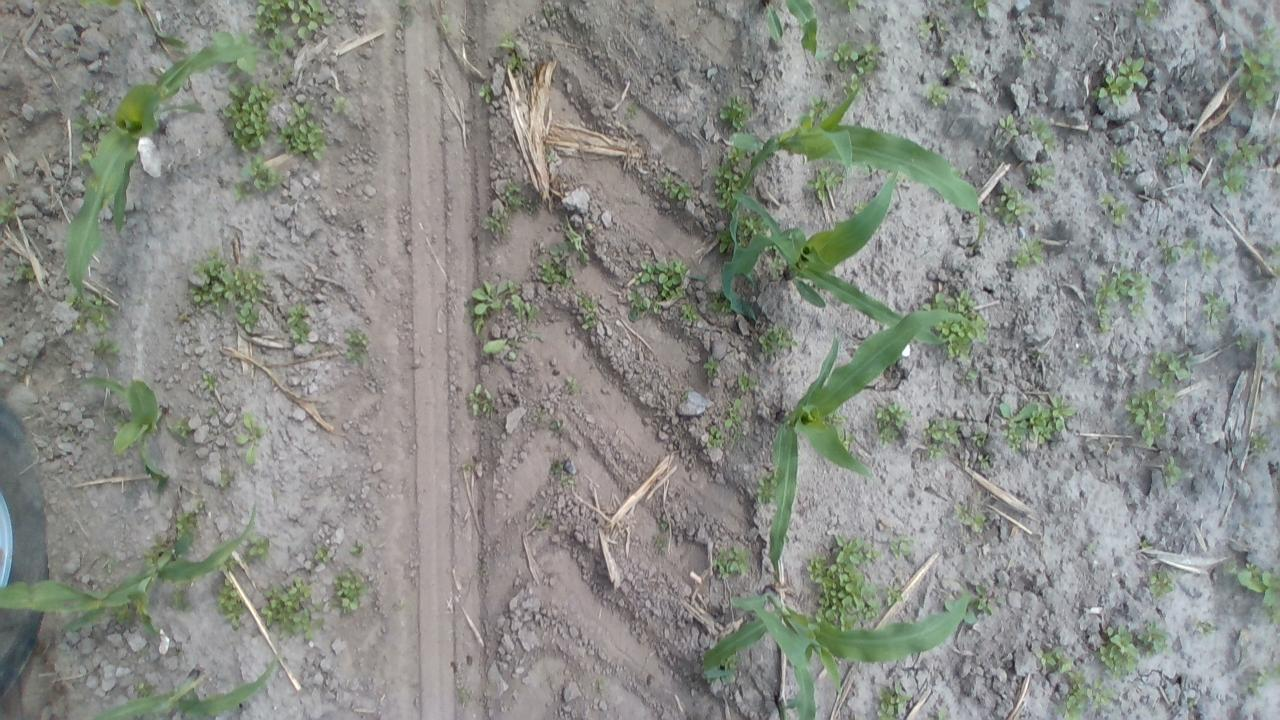Maize: (64, 37, 280, 316), (768, 312, 976, 584), (722, 82, 986, 266), (720, 160, 956, 344), (1, 503, 260, 638), (699, 584, 970, 695), (91, 652, 281, 718), (78, 374, 169, 492), (751, 605, 818, 720), (759, 0, 834, 62), (136, 1, 190, 51), (75, 0, 144, 8)
Weeds: (1224, 562, 1280, 634), (817, 564, 883, 624), (260, 578, 320, 641), (1098, 264, 1160, 322), (222, 80, 272, 150), (471, 273, 517, 333), (1126, 387, 1172, 445), (1094, 56, 1146, 106), (1218, 139, 1262, 195), (279, 106, 323, 160), (937, 315, 983, 363), (546, 213, 590, 263), (1096, 628, 1138, 677), (252, 1, 290, 52), (1240, 48, 1276, 95), (236, 160, 280, 196), (998, 401, 1052, 430), (1058, 670, 1089, 718), (173, 498, 205, 542), (1147, 354, 1193, 384), (1010, 236, 1045, 274), (237, 412, 263, 463), (874, 683, 910, 719), (712, 166, 742, 209), (334, 572, 365, 612), (661, 165, 692, 204), (220, 582, 246, 628), (1029, 114, 1060, 152), (952, 502, 986, 536), (718, 94, 751, 129), (996, 193, 1033, 224), (479, 208, 511, 243), (656, 260, 686, 297), (760, 325, 794, 357), (1159, 240, 1202, 264), (194, 247, 228, 277), (1244, 664, 1280, 692), (712, 548, 747, 576), (1128, 0, 1163, 28), (832, 536, 864, 565), (1048, 393, 1076, 426), (754, 470, 776, 511), (1140, 621, 1170, 651), (88, 292, 110, 332), (243, 266, 270, 298), (810, 168, 837, 200), (538, 260, 571, 286), (921, 291, 956, 315), (1108, 144, 1134, 176), (234, 300, 262, 329), (503, 182, 530, 212), (1038, 648, 1074, 670), (928, 78, 952, 111), (288, 308, 310, 344), (831, 42, 858, 70), (1204, 292, 1226, 325), (626, 290, 650, 320), (929, 418, 959, 442), (1164, 148, 1196, 170), (1086, 683, 1114, 708), (858, 44, 881, 74), (469, 386, 492, 416), (303, 1, 331, 25), (700, 352, 724, 380), (1244, 87, 1273, 110), (70, 113, 101, 134), (512, 296, 535, 324), (218, 272, 242, 298), (1150, 572, 1174, 598), (0, 195, 20, 226), (346, 329, 366, 360), (91, 338, 120, 359), (1198, 246, 1219, 275), (331, 94, 354, 120), (959, 0, 990, 19), (580, 298, 598, 330), (497, 28, 519, 54), (680, 300, 699, 330), (976, 586, 996, 614), (840, 74, 864, 97), (13, 260, 38, 282), (506, 53, 528, 78), (248, 538, 270, 562), (1108, 200, 1130, 224), (708, 294, 732, 316), (736, 373, 761, 394), (809, 556, 829, 582), (484, 339, 514, 356), (1030, 164, 1053, 186), (835, 0, 863, 18), (951, 52, 972, 76), (188, 285, 214, 304), (724, 401, 741, 430), (884, 584, 906, 606), (63, 290, 85, 312), (632, 261, 652, 285), (1166, 454, 1182, 483), (477, 80, 496, 104), (916, 16, 932, 44), (998, 113, 1018, 135), (68, 314, 86, 338), (766, 254, 784, 278), (808, 96, 829, 116), (892, 538, 912, 559), (296, 20, 318, 39), (546, 461, 568, 480), (886, 402, 908, 421), (199, 370, 217, 393), (1251, 430, 1269, 453), (219, 468, 237, 490), (956, 290, 974, 312), (172, 588, 190, 610), (1001, 433, 1024, 450), (75, 86, 99, 102), (1196, 619, 1216, 638), (1257, 22, 1276, 42), (286, 2, 304, 23), (620, 104, 640, 122), (531, 515, 552, 532), (1030, 428, 1052, 444), (720, 655, 740, 672), (174, 418, 192, 436), (136, 680, 154, 698), (564, 374, 582, 392), (976, 453, 993, 472), (396, 10, 415, 27), (716, 230, 730, 253), (544, 144, 560, 164), (866, 545, 884, 562), (650, 534, 669, 550), (530, 407, 550, 422), (592, 675, 606, 696), (852, 197, 868, 214), (1022, 42, 1038, 59), (743, 216, 756, 236), (550, 420, 568, 434), (708, 427, 722, 445), (458, 459, 477, 472), (965, 365, 981, 380), (314, 548, 330, 563), (1076, 350, 1092, 364), (926, 443, 942, 457), (728, 148, 742, 163), (658, 515, 669, 534), (931, 707, 947, 720), (1082, 540, 1096, 554), (202, 406, 216, 420), (972, 431, 986, 445), (350, 542, 364, 556), (653, 300, 666, 315), (1094, 322, 1110, 334), (1138, 539, 1152, 552), (543, 7, 553, 22), (440, 12, 450, 26), (678, 390, 689, 402), (398, 1, 412, 10), (1272, 242, 1280, 254)
